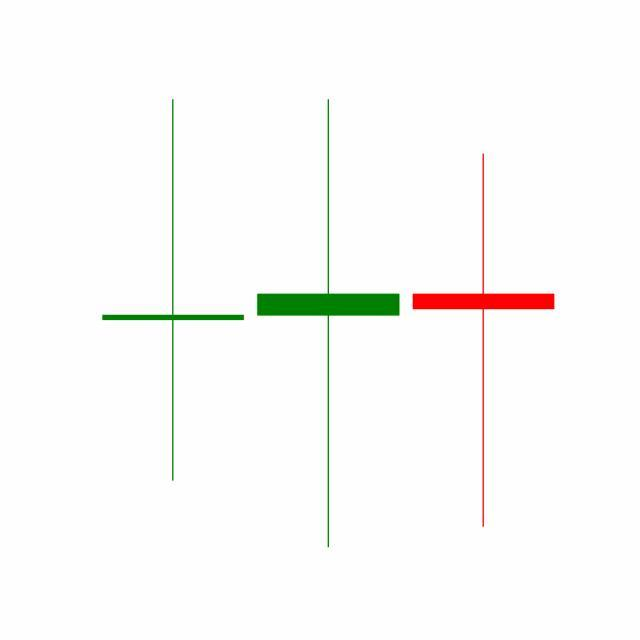Spinning Top: (406, 150, 562, 532)
